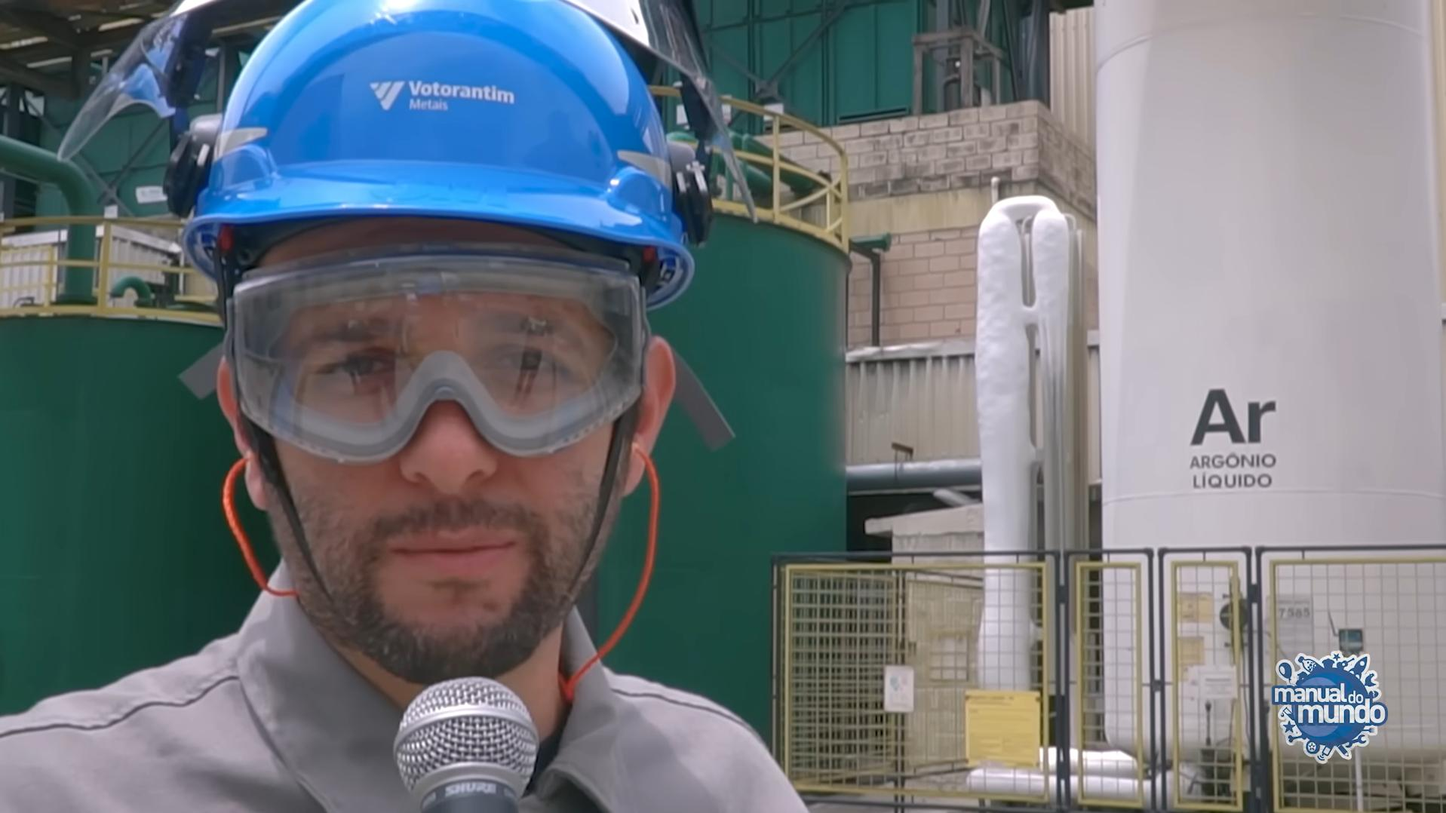goggles: (210, 253, 659, 468)
helmet: (165, 0, 709, 290)
